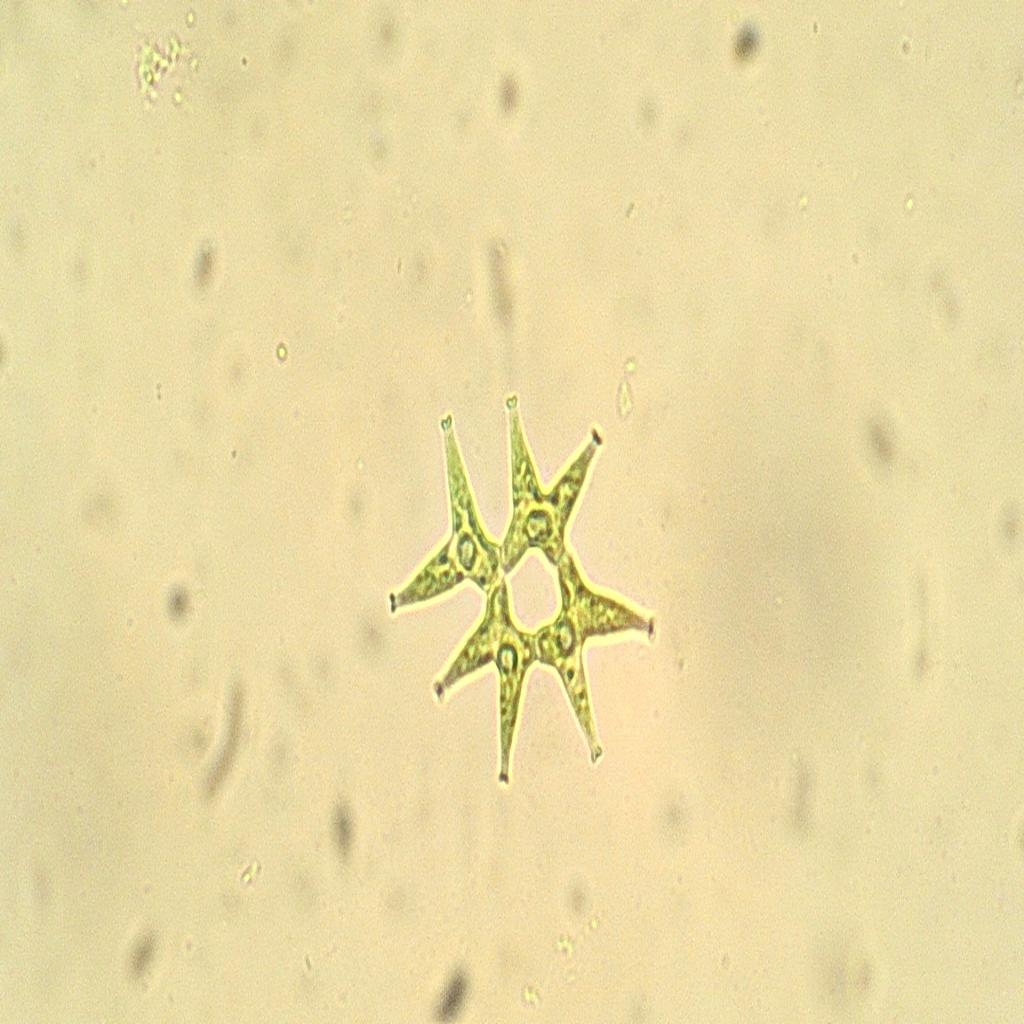Pediastrum_75FI: (376, 342, 670, 838)
